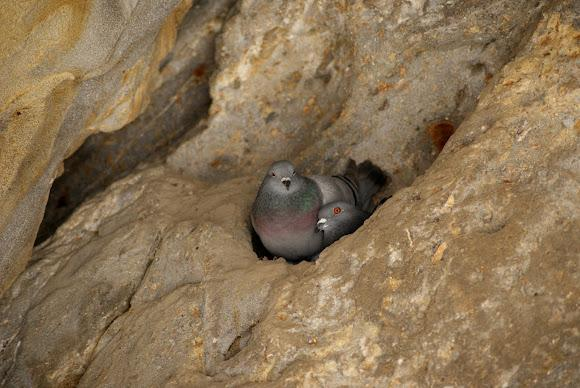Flying Rat: (251, 155, 318, 259), (319, 194, 374, 259)
